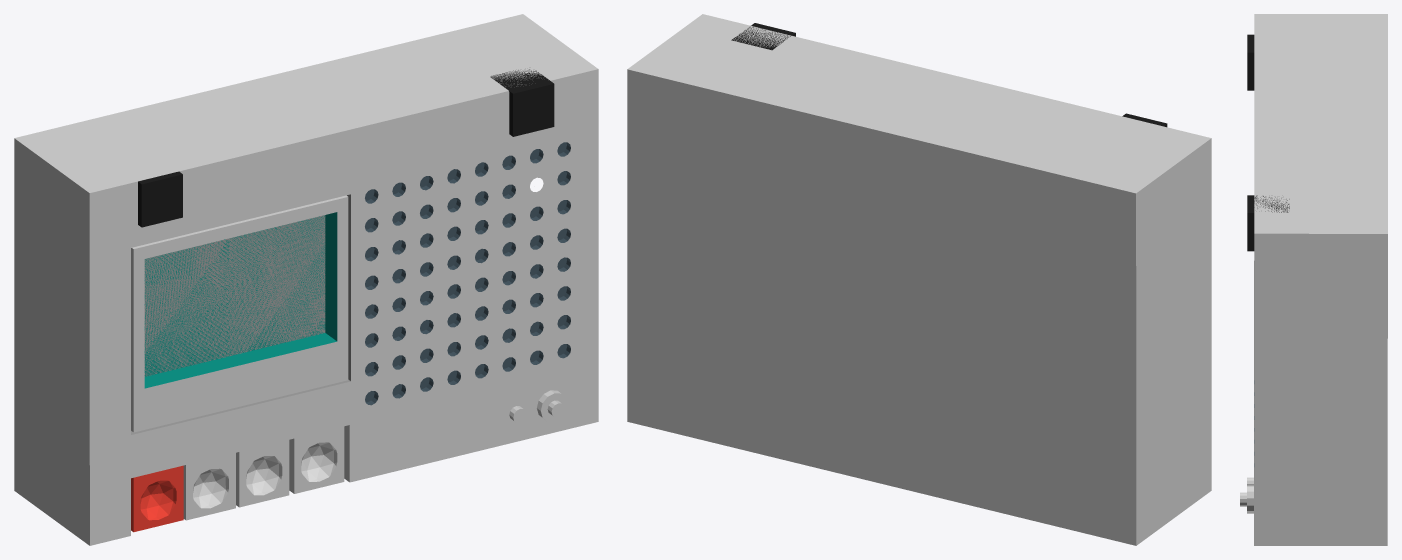
The model's file is casette.gltf.
The picture shows the model from 3 angles, left to right: view 1: azimuth 30°, elevation 25°; view 2: azimuth 150°, elevation 25°; view 3: azimuth 270°, elevation 25°; orthographic projection. The views are drawn at different scales.
Visible parts, largest first — view 1: Node; view 2: Node; view 3: Node.
Boxes of the visible parts, x1=… form: Node: x1=14, y1=14, x2=598, y2=545; Node: x1=627, y1=14, x2=1211, y2=545; Node: x1=1240, y1=14, x2=1387, y2=545.
Bounding box in the file's own units: 0.74 × 0.4902 × 0.2104.
